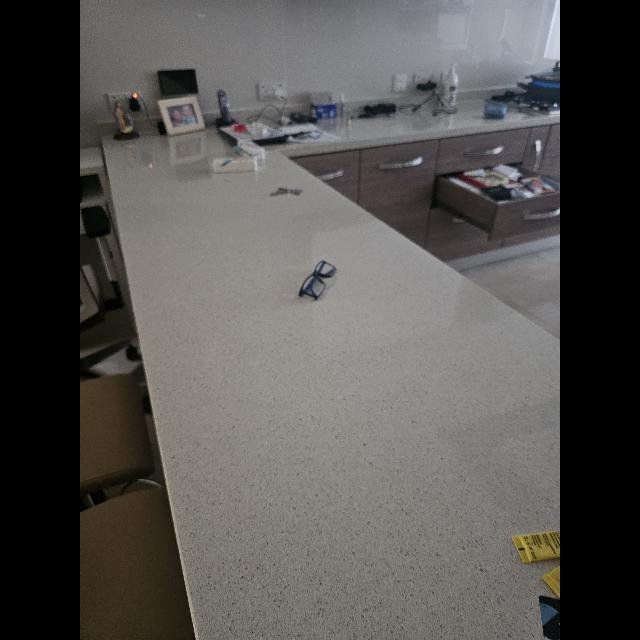glasses: (299, 260, 337, 300)
